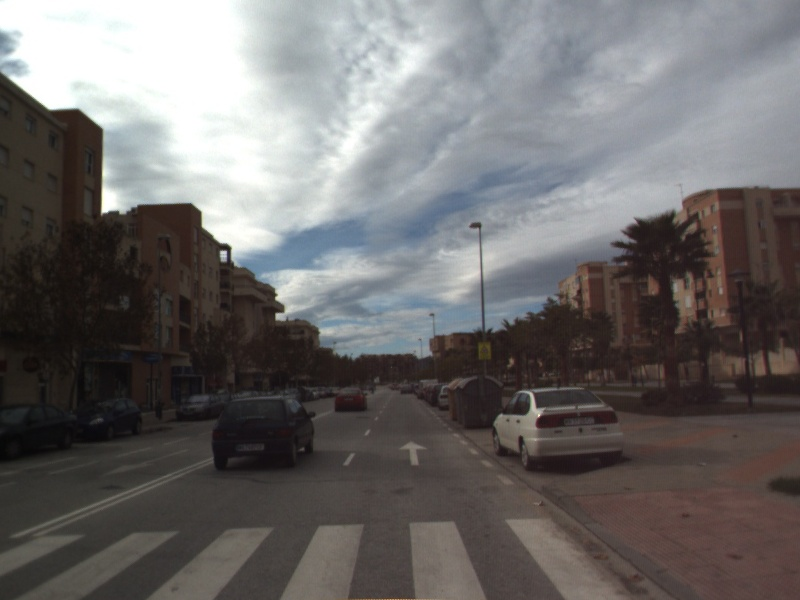STRAIGHT: (397, 439, 430, 467)
